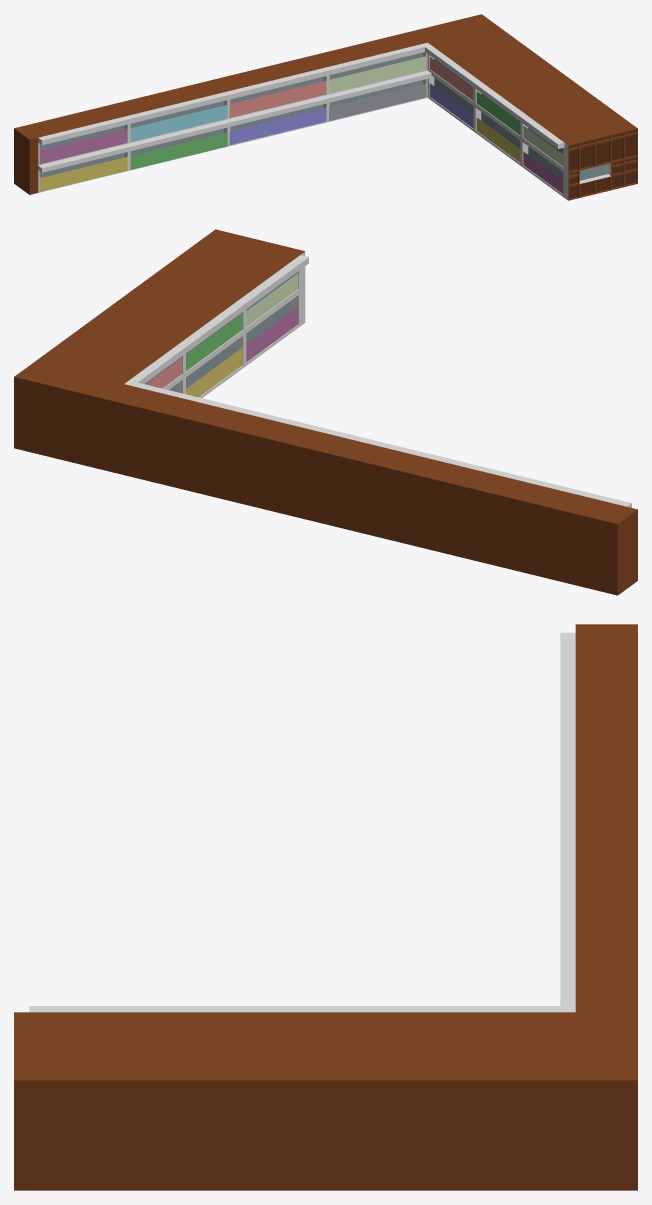
File: escuela.fbx
3 renders of one model, top to bottom at view 1: azimuth 30°, elevation 25°; view 2: azimuth 150°, elevation 25°; view 3: azimuth 270°, elevation 25°, orthographic. The views are drawn at different scales.
Visible parts, largest first — view 1: Cube; view 2: Cube; view 3: Cube.
Part boxes in pixels (x1,y1,x2,y2): Cube: [14, 14, 637, 200]; Cube: [14, 229, 637, 595]; Cube: [14, 624, 637, 1190].
Bounding box in the file's own units: 7040 × 795 × 4071.
